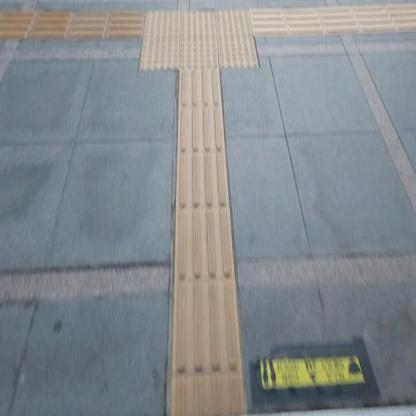podotacti: (169, 66, 249, 413), (127, 0, 277, 88), (254, 2, 416, 38), (0, 11, 142, 41)
